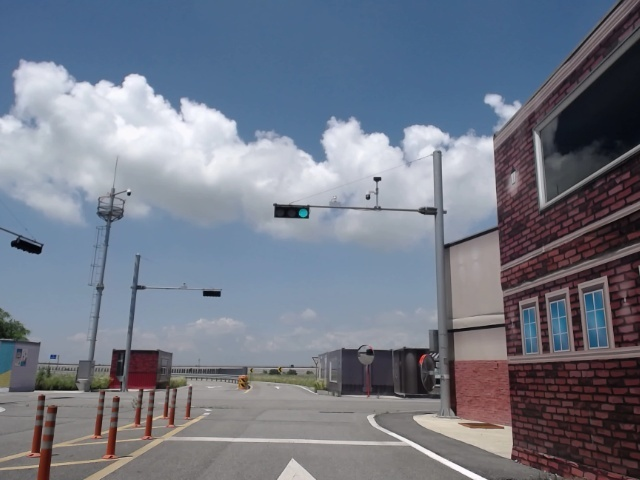green_3: (272, 204, 310, 218)
